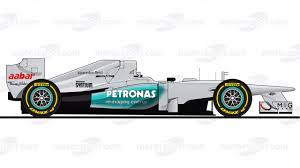FormulaOneCar: (2, 53, 300, 120)
